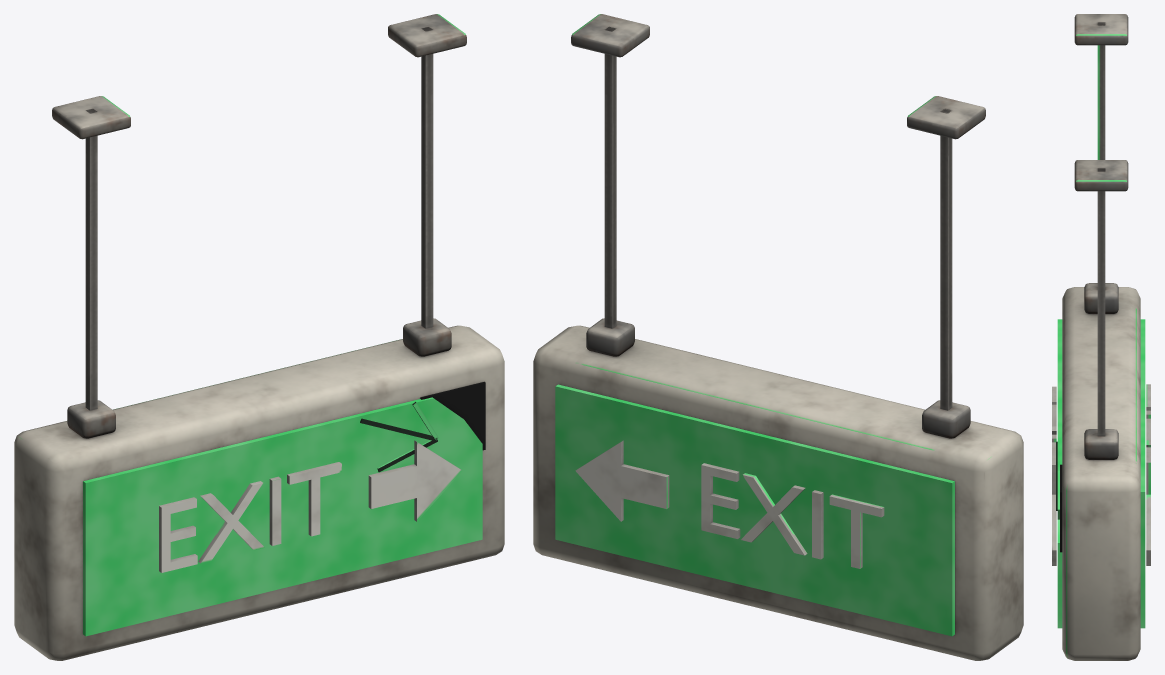
File: exit_sign.fbx
3 views of the same model, side by side, from view 1: azimuth 30°, elevation 25°; view 2: azimuth 150°, elevation 25°; view 3: azimuth 270°, elevation 25° (orthographic). The views are drawn at different scales.
Parts seen in each view (by area): view 1: Body, Glow; view 2: Body, Glow; view 3: Body, Glow.
Boxes of the visible parts, x1,y1,x2,y2 form: Body: (14,14,504,660); Glow: (83,397,482,636); Body: (533,14,1023,660); Glow: (555,384,954,636); Body: (1052,14,1150,660); Glow: (1057,319,1145,628).
Bounding box in the file's own units: 3 × 3.3 × 0.63.
Materials: 1 (1 with a texture image).
